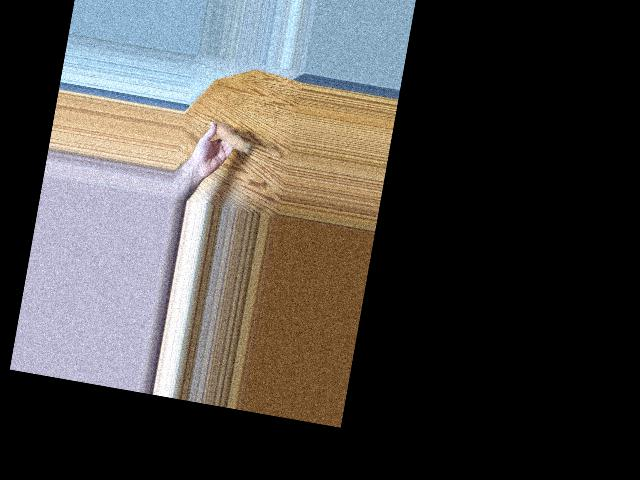sweet_potato: (207, 120, 254, 155)
